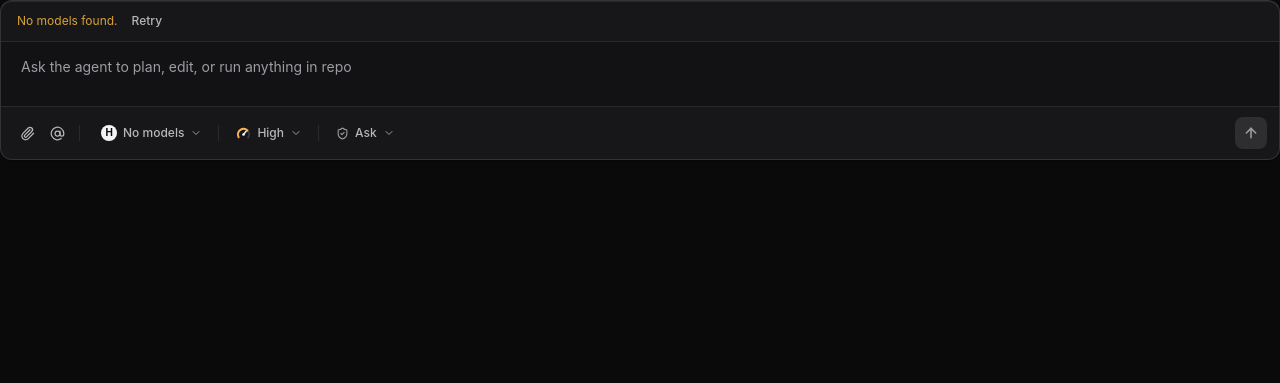
Test: Composer › offers the same three permission modes on every thread
Later steps or results of the test are not shown.
Click the button with aria-label "Permissions" at (365, 133), box [325,119,405,147]
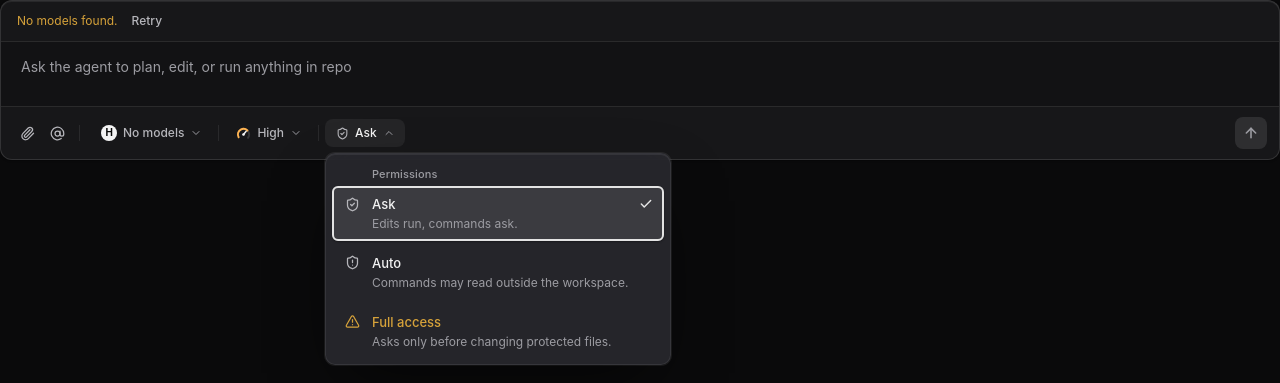
Check: the number of options is 3, box [332,186,664,241]; [332,245,664,300]; [332,304,664,358]
Check: the option "Ask Edits run, commands ask." is shown, box [332,186,664,241]
Check: the option "Auto Commands may read outside the workspace." is shown, box [332,245,664,300]
